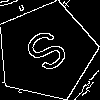S: (21, 26, 79, 83)
